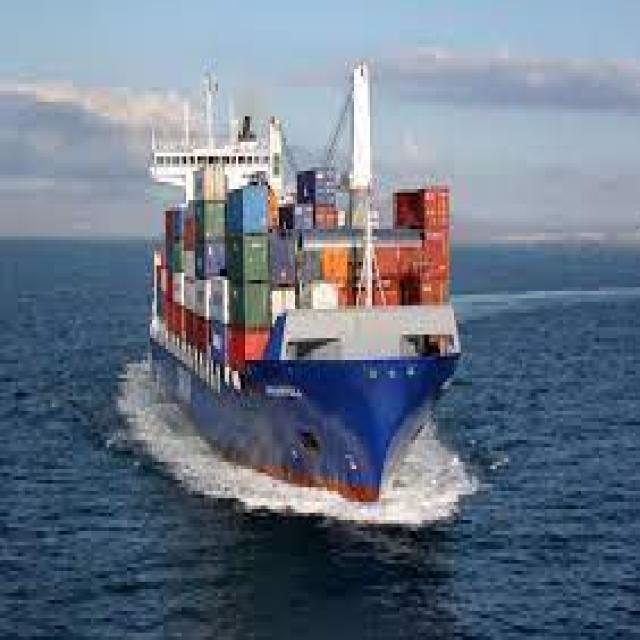cargoship: (138, 51, 466, 519)
